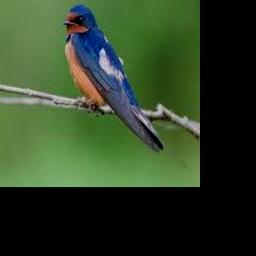Swallow: (62, 6, 164, 152)
